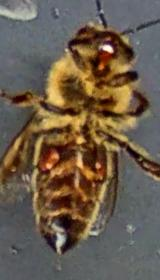varroa_mite: (27, 142, 68, 178), (87, 154, 118, 179)
